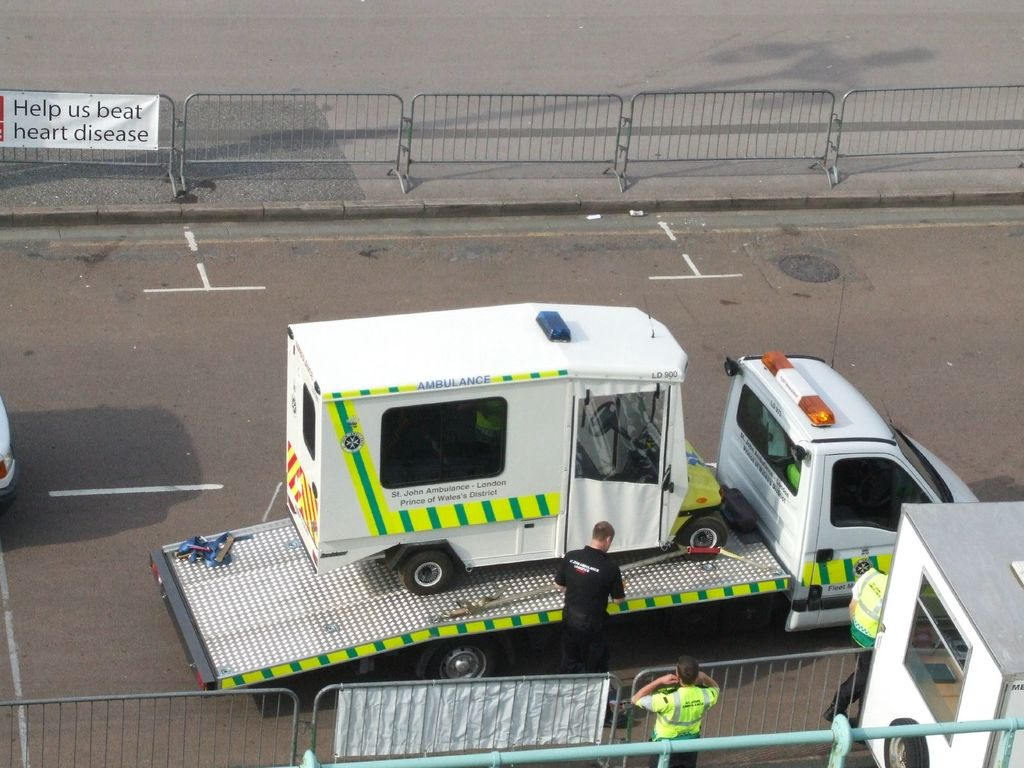truck: (146, 286, 965, 721)
